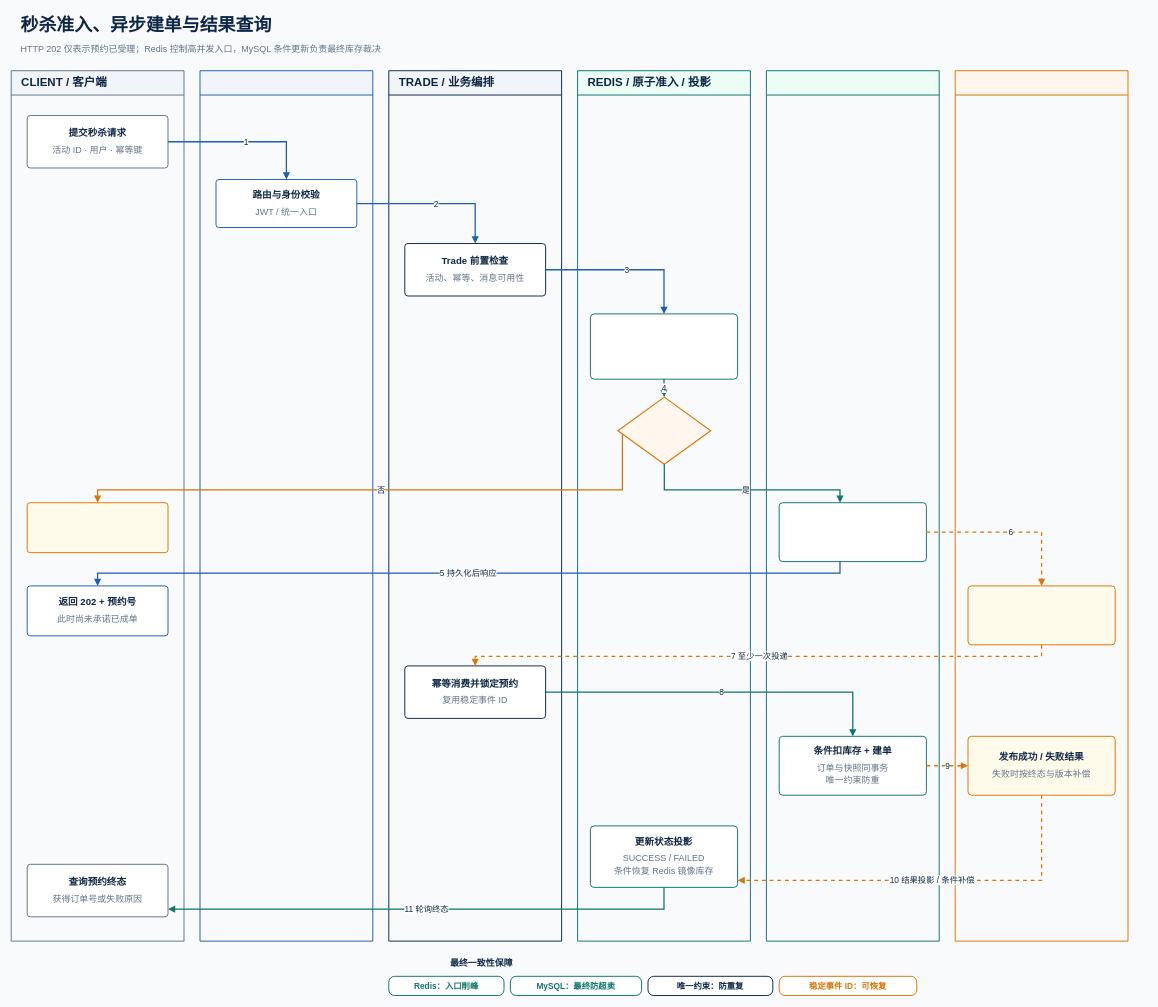
Some shapes in this 1158 by 1007 pixel diagram are drawn without their labels. Each missing label, with the box of its shape:
GATEWAY / 统一入口: (199, 70, 373, 941)
MYSQL / 预约与订单事实: (766, 70, 939, 941)
RABBITMQ / 异步请求 / 结果: (954, 70, 1128, 941)
Redis Lua 原子执行 时间 / 版本 / 用户 / 库存 预扣镜像库存并写入 pending: (590, 313, 738, 379)
发布秒杀请求事件 Outbox 恢复发布 至少一次投递: (967, 585, 1115, 645)
受控拒绝 售罄、重复或资格冲突: (26, 502, 168, 553)
是否准入: (617, 396, 711, 465)
预约 + Request Outbox 稳定事件 ID 同一 MySQL 事务: (778, 502, 927, 562)
